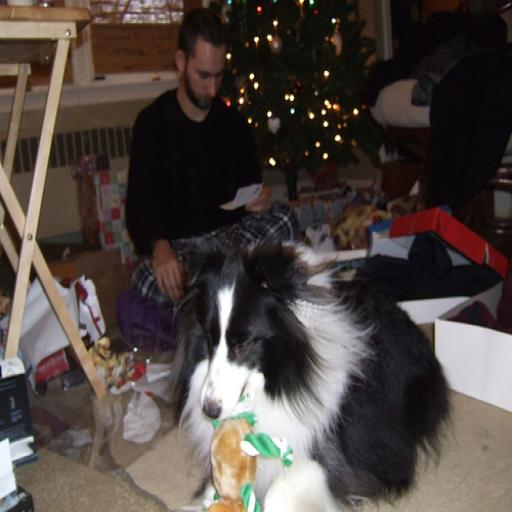dog_face: (188, 263, 296, 417)
